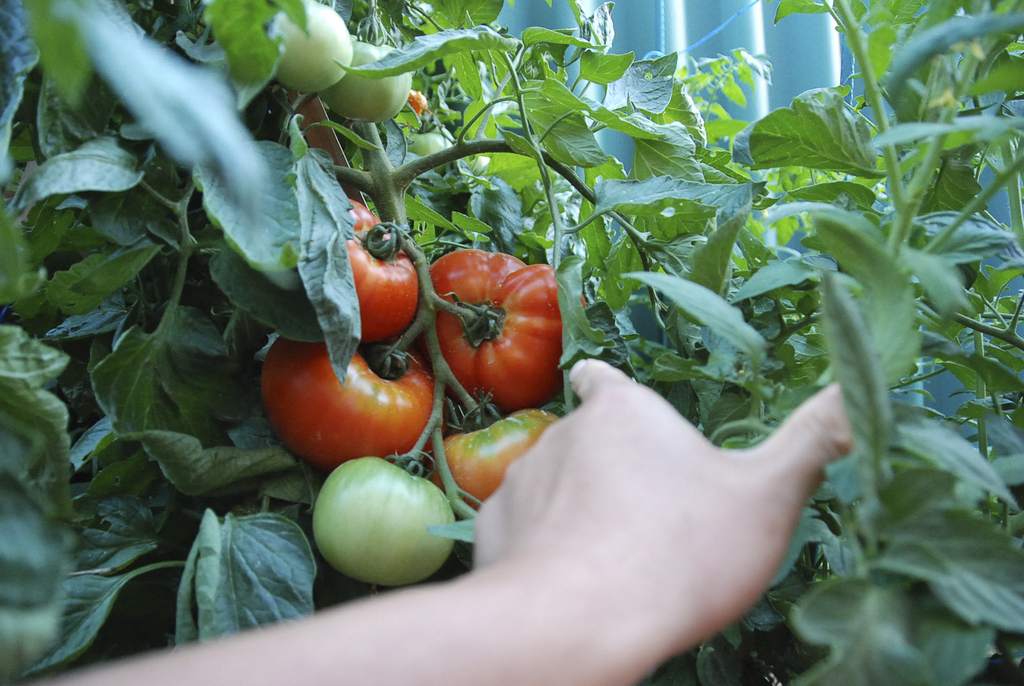Tomato: (258, 331, 432, 471), (428, 250, 576, 413), (309, 455, 458, 585), (436, 408, 565, 507), (346, 190, 422, 343)
